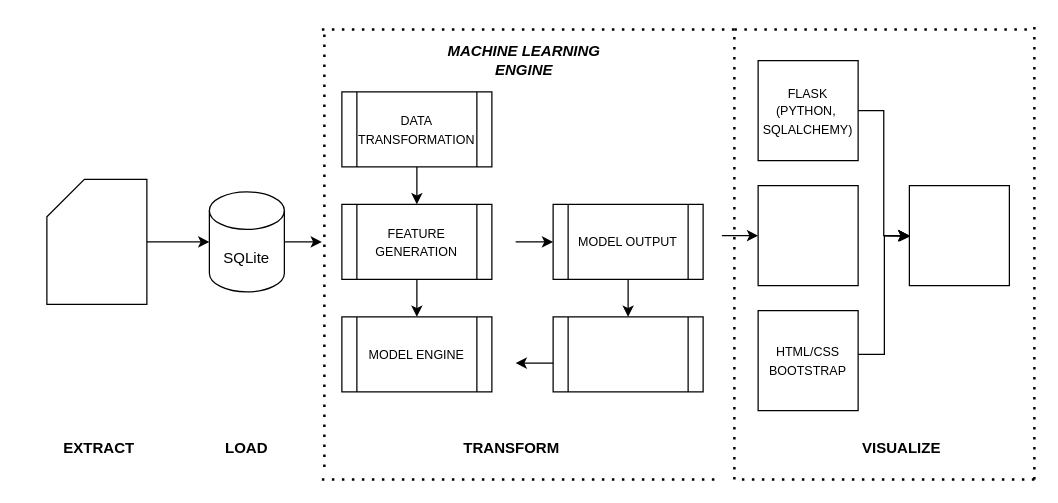
Image size: 1058x503. Some labels were removed from this diagram. The shapes that lost their labels are listed below. From the top down, each one's box as (x1, y1, x2, y2) in pixels, then its label:
(46, 178, 147, 304): CSV
(757, 184, 858, 286): JAVASCRIPT (D3)
(908, 184, 1009, 286): HEROKU
(552, 316, 703, 392): PERFORMANCE TUNING
